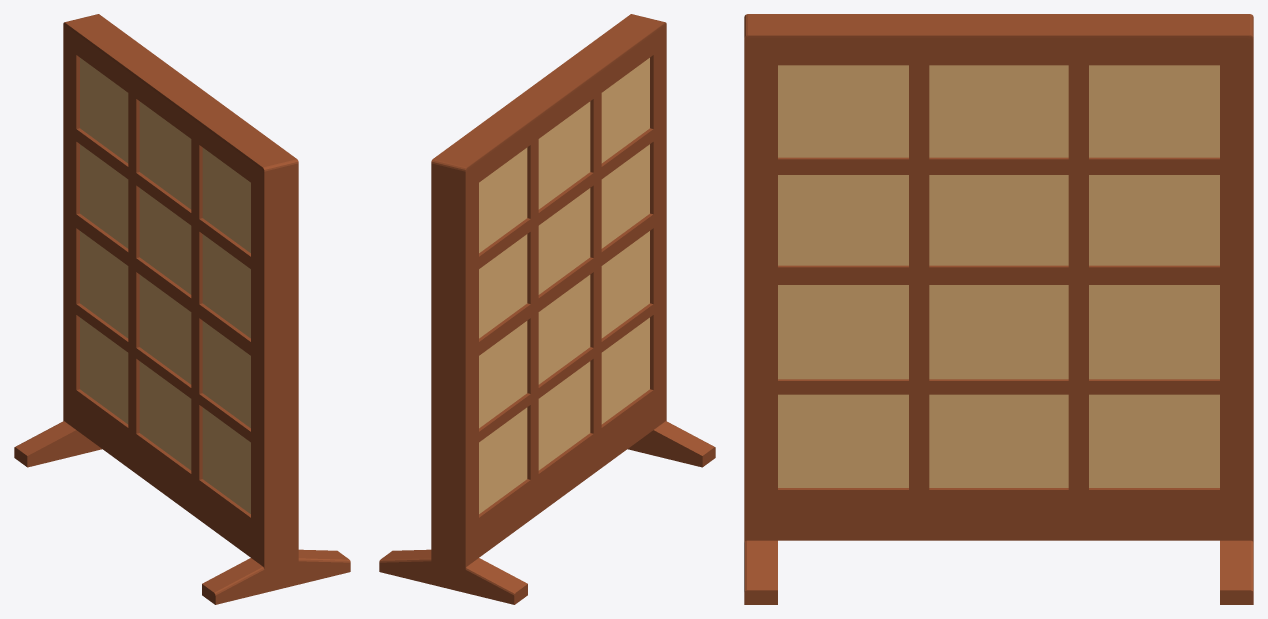
The model's file is japan_panjur.fbx.
The picture shows the model from 3 angles, left to right: view 1: azimuth 30°, elevation 25°; view 2: azimuth 150°, elevation 25°; view 3: azimuth 270°, elevation 25°; orthographic projection. The views are drawn at different scales.
Visible parts, largest first — view 1: panjur; view 2: panjur; view 3: panjur.
Part boxes in pixels (x1,y1,x2,y2): panjur: [14, 14, 350, 604]; panjur: [379, 14, 715, 604]; panjur: [744, 14, 1253, 604].
Bounding box in the file's own units: 36.18 × 108 × 93.02.
